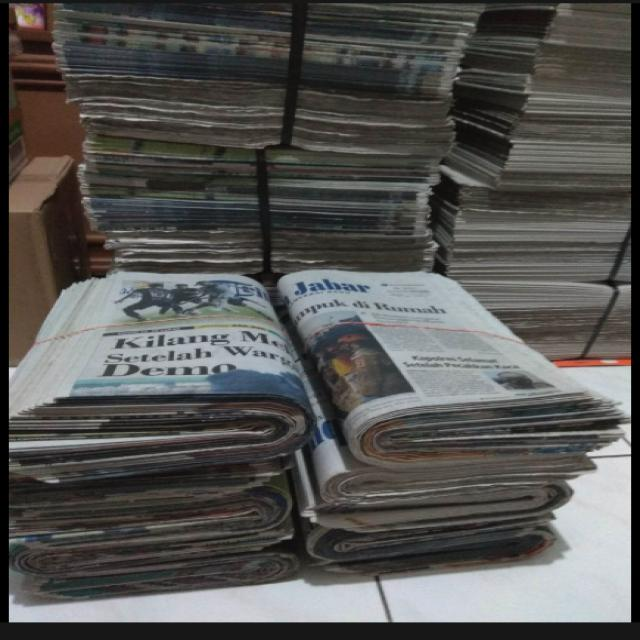Koran: (8, 268, 628, 602)
